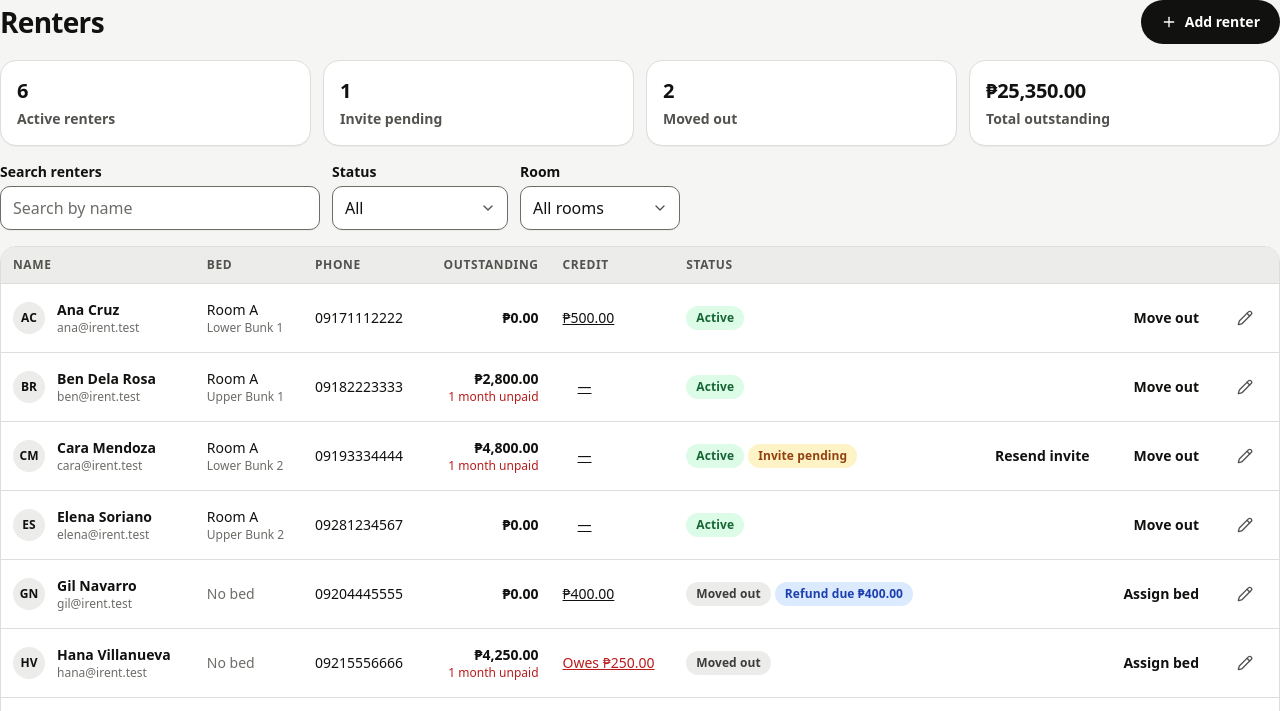
AdminRentersPage (F14, R30-R32, R51, SC-29, SC-30, SC-51, SC-52, SC-64) › filters by name search
expect the link "Ana Cruz" is shown: met, box [57, 300, 119, 320]
Type "Ana" into the field labelled "Search renters". click: (160, 208)
box: [0, 186, 320, 230]
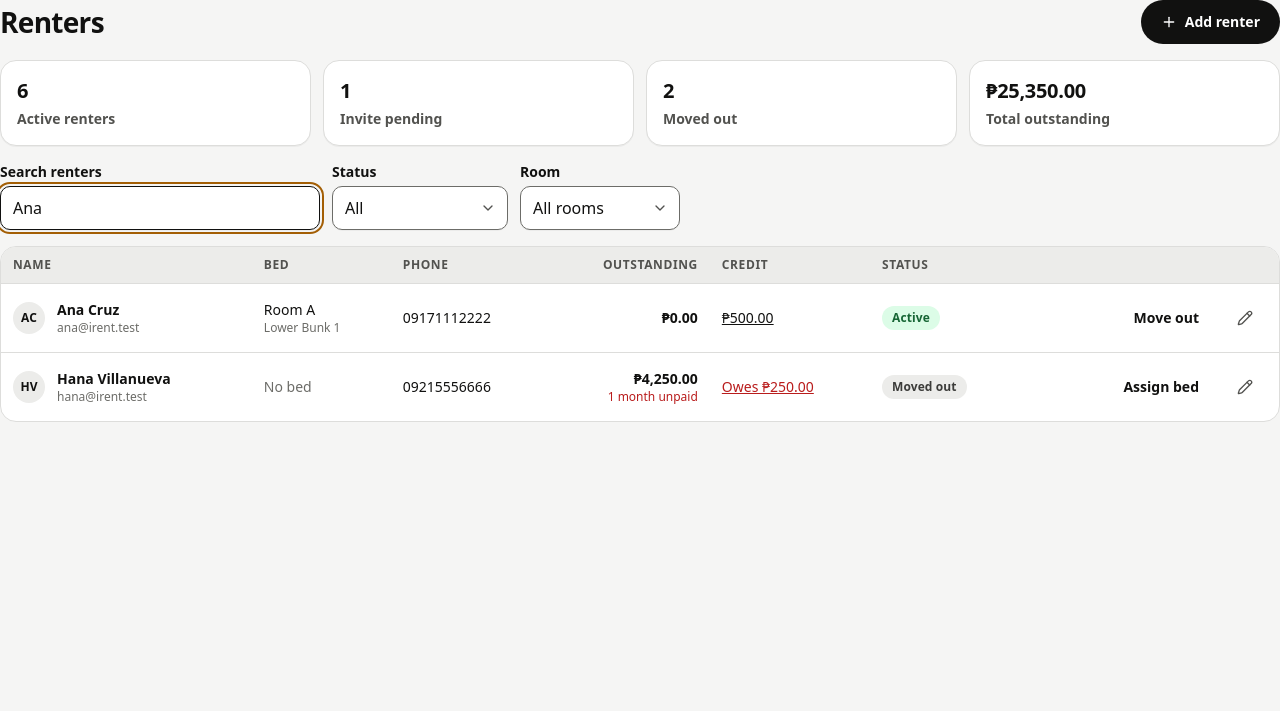
expect the link "Ana Cruz" is shown: met, box [57, 300, 119, 320]
expect the link "Ben Dela Rosa" is gone: met
